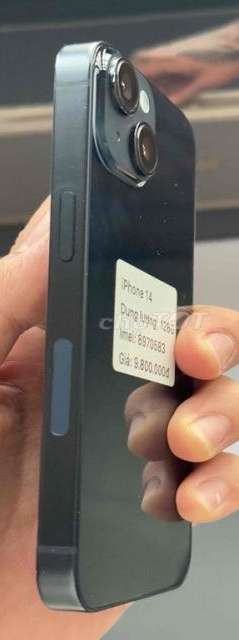scratch: (144, 164, 196, 302), (138, 491, 147, 504)
